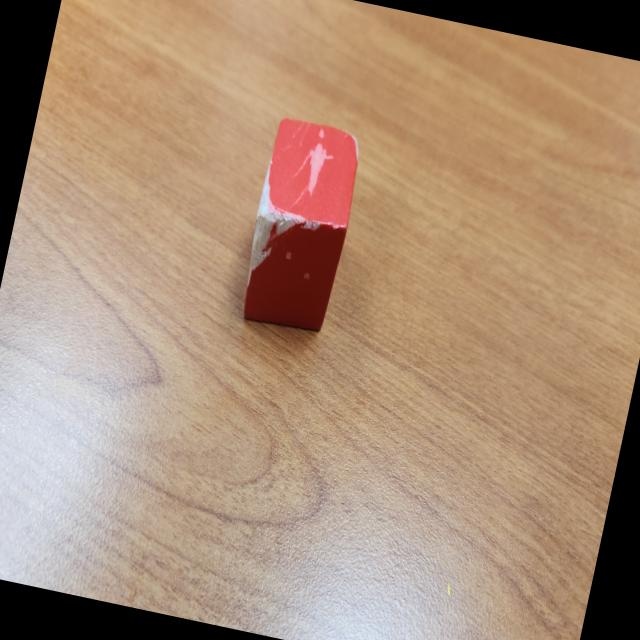broken: (234, 115, 367, 336)
